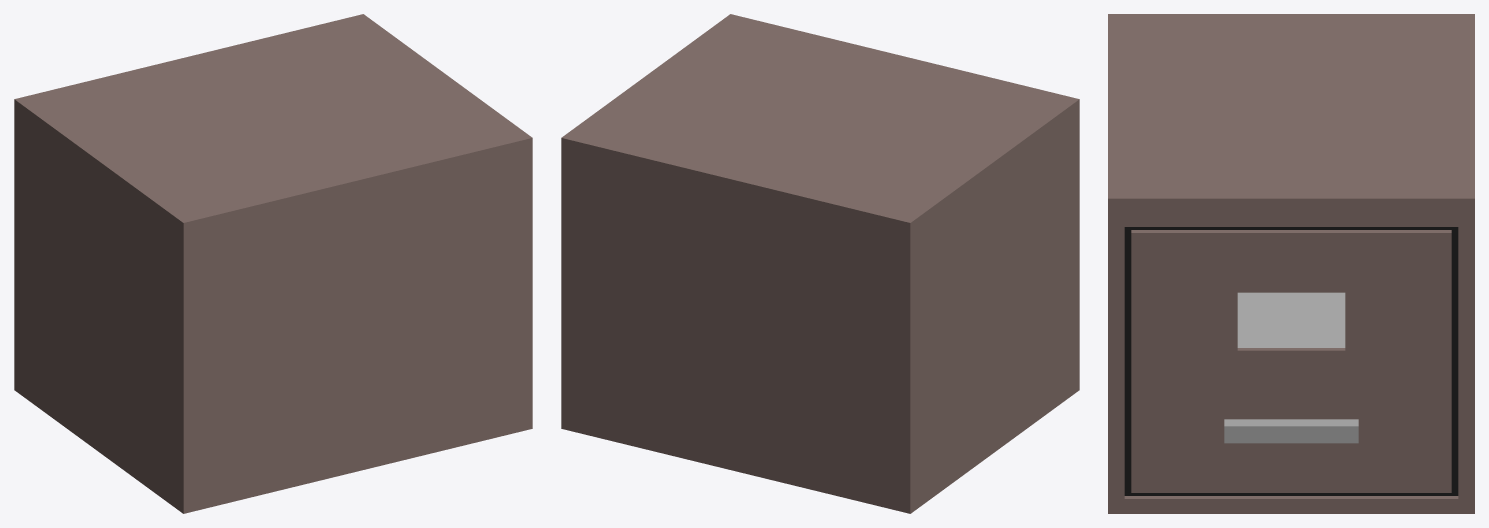
File: Arquivo1.fbx
3 views of the same model, side by side, from view 1: azimuth 30°, elevation 25°; view 2: azimuth 150°, elevation 25°; view 3: azimuth 270°, elevation 25° (orthographic). The views are drawn at different scales.
Visible parts, largest first — view 1: Cube; view 2: Cube; view 3: Cube.
Boxes of the visible parts, box(x1,y1,x2,y2) form: Cube: box(14, 14, 532, 513); Cube: box(561, 14, 1079, 513); Cube: box(1108, 14, 1474, 513).
Bounding box in the file's own units: 248 × 190 × 200.
